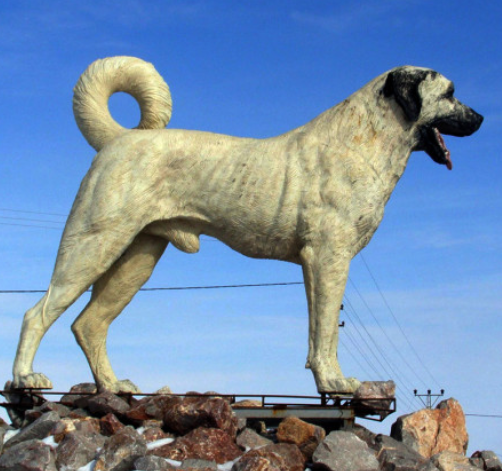dog: (10, 56, 486, 392)
